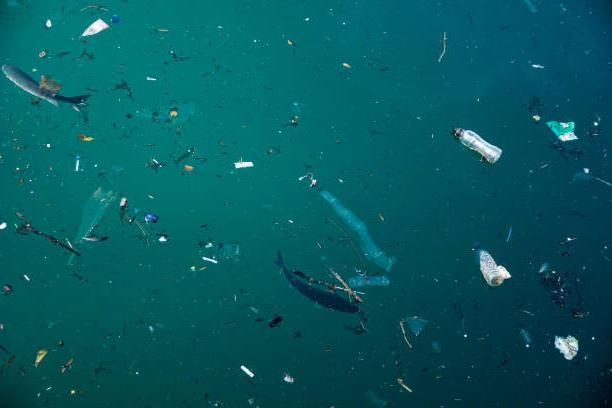Plastic: (58, 183, 114, 269), (448, 124, 505, 168), (471, 239, 504, 288)
